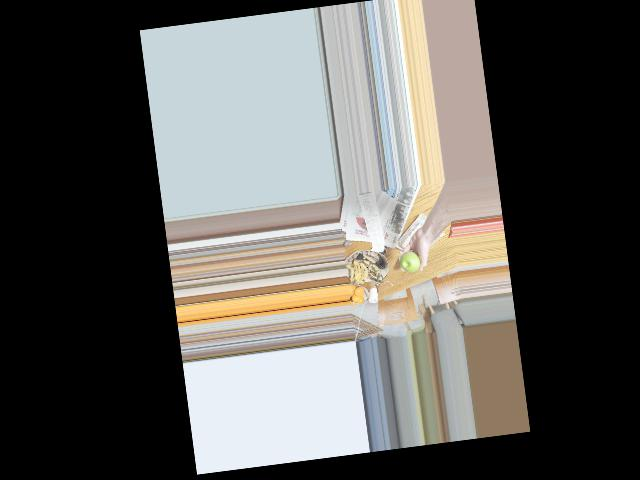apple: (399, 249, 421, 274)
